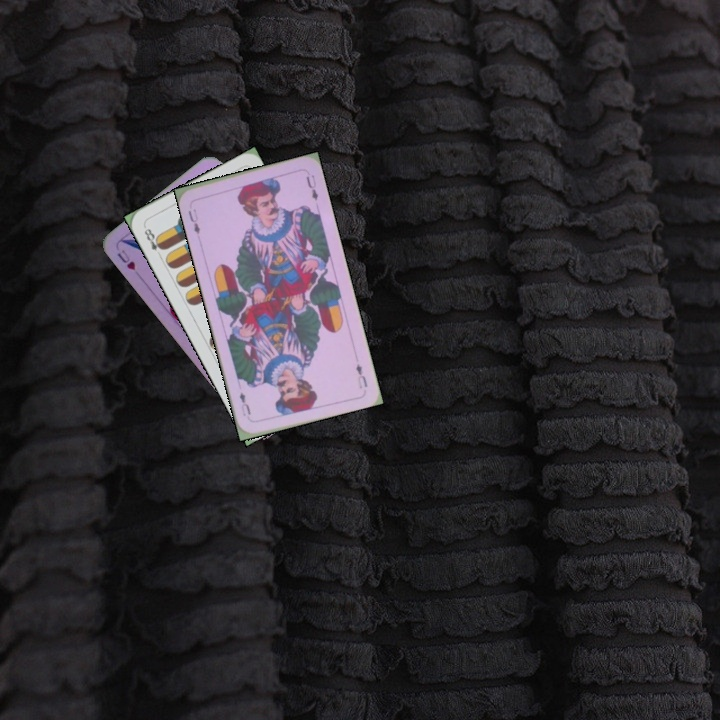E8: (140, 222, 167, 260)
EU: (184, 200, 203, 237), (352, 360, 370, 391)
HU: (113, 245, 138, 273)
